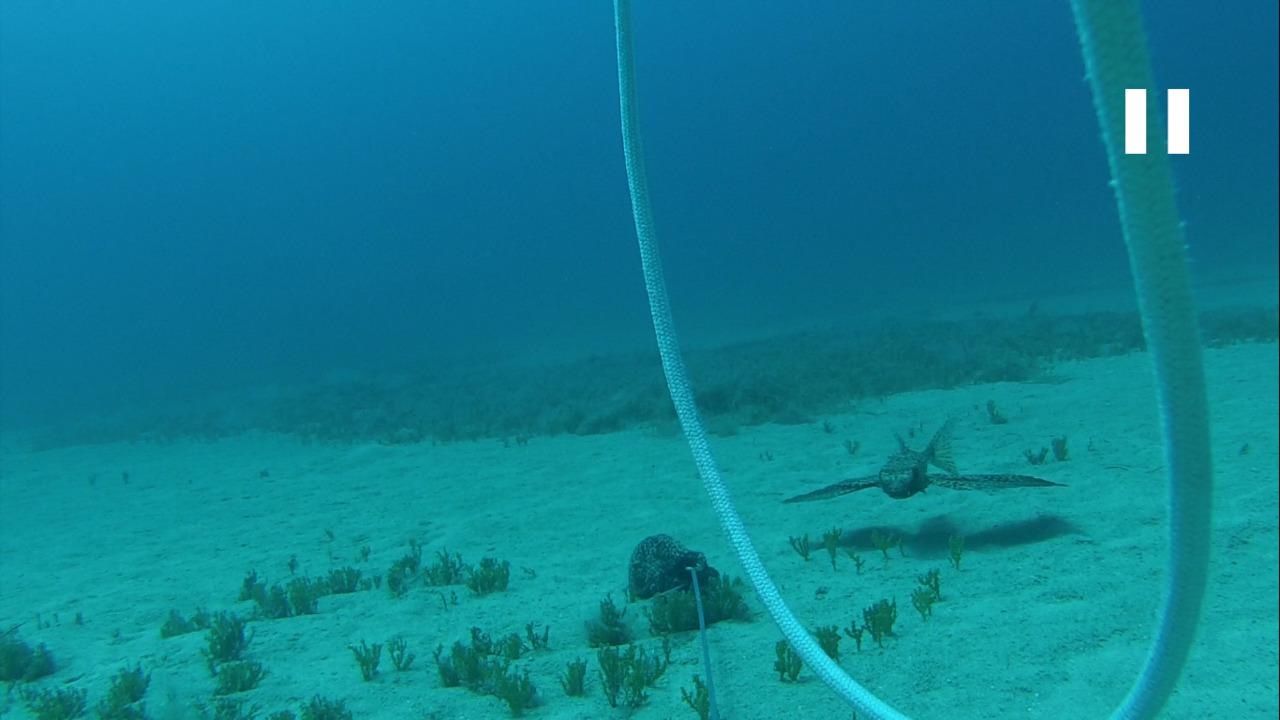dactylopterus: (779, 419, 1062, 497)
